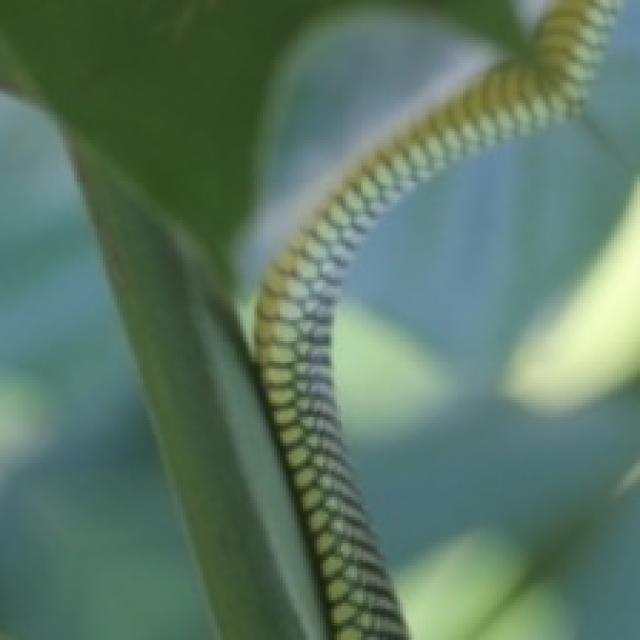paradise tree snake: (254, 0, 614, 637)
